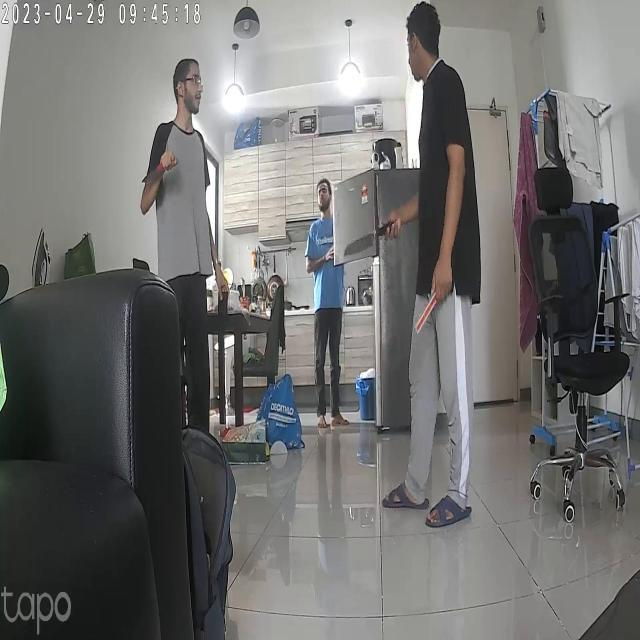Knife: (336, 223, 392, 262), (136, 151, 194, 188)
